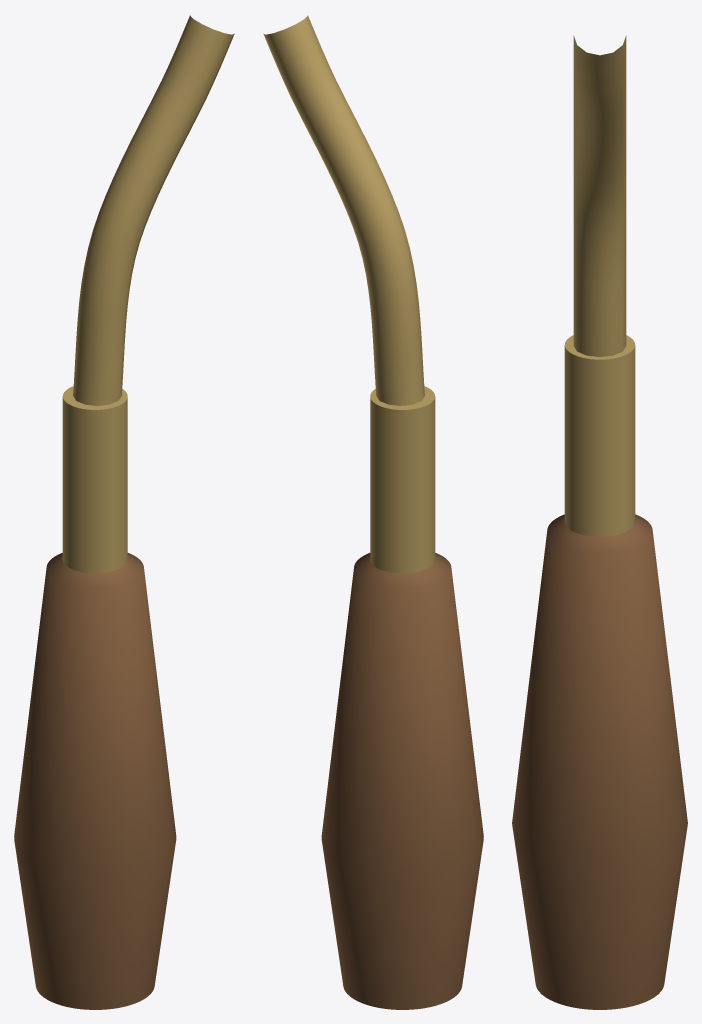
File: fantasy-cartographers-map-printing-guild-plate-burnish-87a096a2__32250.glb
3 renders of one model, left to right at view 1: azimuth 30°, elevation 25°; view 2: azimuth 150°, elevation 25°; view 3: azimuth 270°, elevation 25°, orthographic. The views are drawn at different scales.
Visible parts, largest first — view 1: plate-burnisher; view 2: plate-burnisher; view 3: plate-burnisher.
Boxes of the visible parts, x1,y1,x2,y2 form: plate-burnisher: (14,15,234,1009); plate-burnisher: (263,15,483,1009); plate-burnisher: (512,35,687,1009).
Size of the model in its own units: 0.088 by 0.384 by 0.06.
